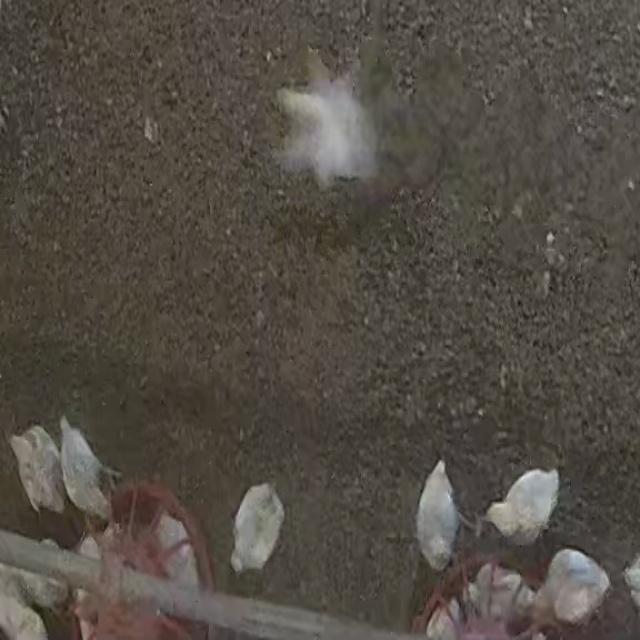chicken: (522, 546, 612, 638), (404, 457, 469, 570), (58, 412, 122, 526), (484, 467, 560, 550), (9, 424, 68, 520), (224, 486, 286, 570)
